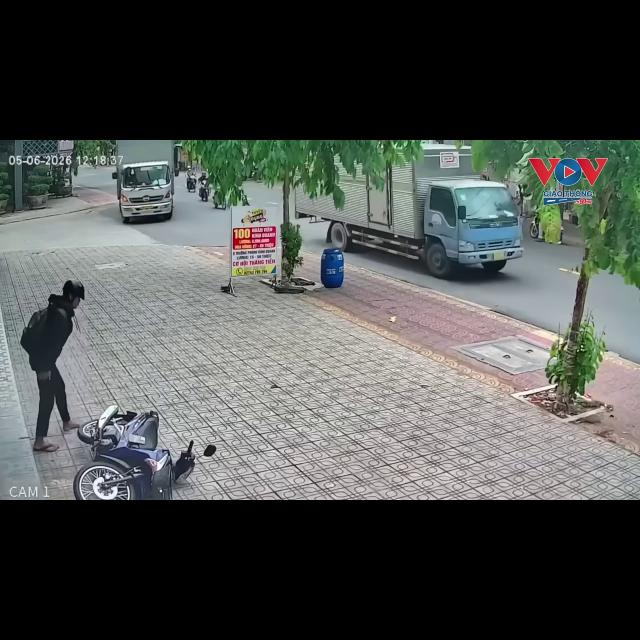motorcycle: (73, 405, 195, 499), (529, 214, 543, 239), (212, 189, 228, 209), (199, 180, 209, 202), (187, 176, 196, 192)
truck: (294, 144, 522, 278), (112, 140, 178, 223)
